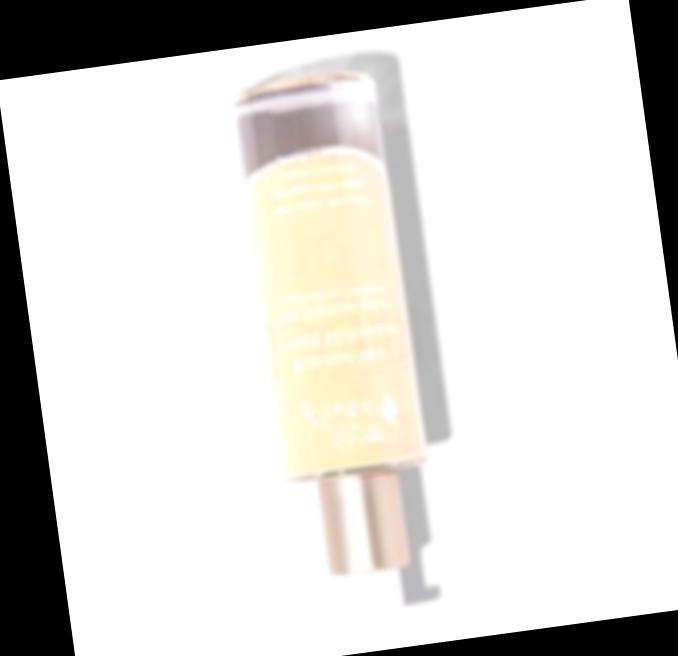cosmetic: (227, 76, 449, 634)
